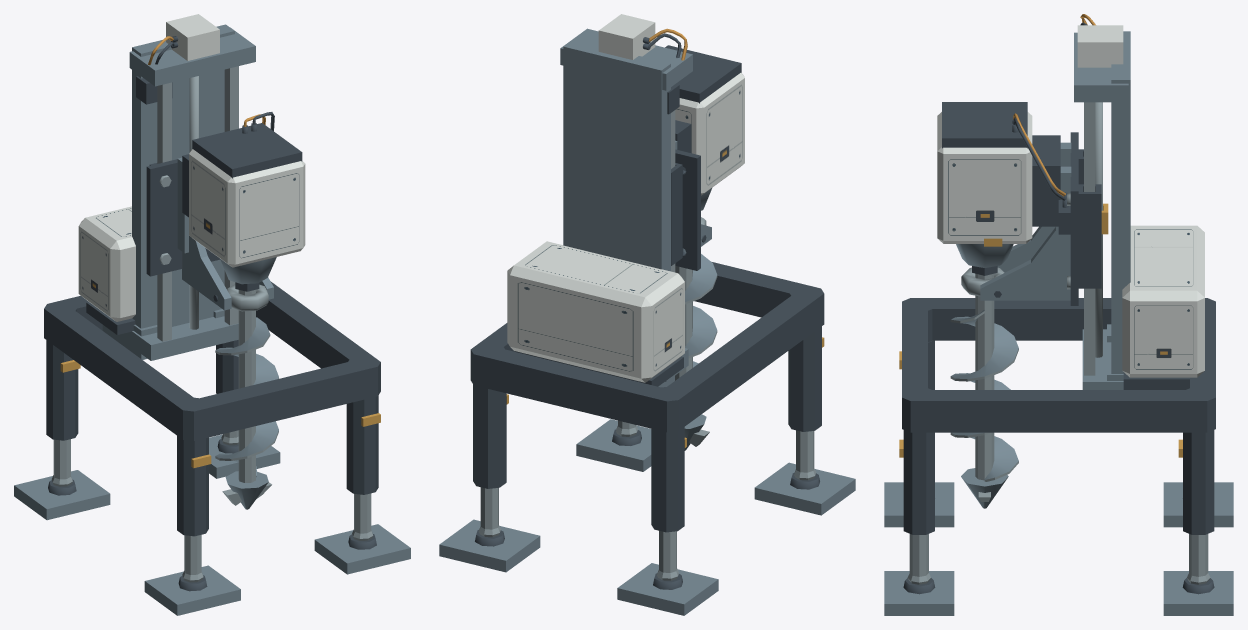
File: Research_Drill_LOD1.glb
The picture shows the model from 3 angles, left to right: view 1: azimuth 30°, elevation 25°; view 2: azimuth 150°, elevation 25°; view 3: azimuth 270°, elevation 25°; orthographic projection. The views are drawn at different scales.
Parts seen in each view (by area): view 1: Frame, Carriage, Auger_Rotating, Foot_FL, Foot_RL, Foot_FR, Foot_RR, Leg_FL, Leg_RL, Leg_FR; view 2: Frame, Carriage, Foot_RR, Foot_FL, Foot_RL, Auger_Rotating, Foot_FR, Leg_RR, Leg_FL, Leg_RL; view 3: Frame, Carriage, Auger_Rotating, Foot_FR, Foot_RR, Foot_FL, Foot_RL, Leg_FR, Leg_RR.
Part boxes in pixels (x1,y1,x2,y2): Frame: (44,14,380,536); Carriage: (146,112,305,311); Auger_Rotating: (215,282,278,509); Foot_FL: (144,565,240,615); Foot_RL: (14,470,110,520); Foot_FR: (314,524,410,574); Foot_RR: (209,434,280,478); Leg_FL: (182,535,203,582); Leg_RL: (51,439,72,486); Leg_FR: (352,493,373,540); Frame: (470,14,824,532); Carriage: (665,45,744,270); Foot_RR: (439,519,540,572); Foot_FL: (754,462,855,515); Foot_RL: (617,563,718,615); Auger_Rotating: (675,254,717,450); Foot_FR: (576,419,651,471); Leg_RR: (478,487,500,537); Leg_FL: (794,430,816,480); Leg_RL: (657,531,678,580); Frame: (899,14,1215,534); Carriage: (937,102,1108,305); Auger_Rotating: (950,266,1018,508); Foot_FR: (884,571,954,615); Foot_RR: (1163,571,1233,615); Foot_FL: (884,482,954,527); Foot_RL: (1163,482,1233,527); Leg_FR: (907,534,930,584); Leg_RR: (1187,534,1210,584).
Bounding box in the file's own units: 0.66 × 1.32 × 0.8.
Materials: 1 (1 with a texture image).
